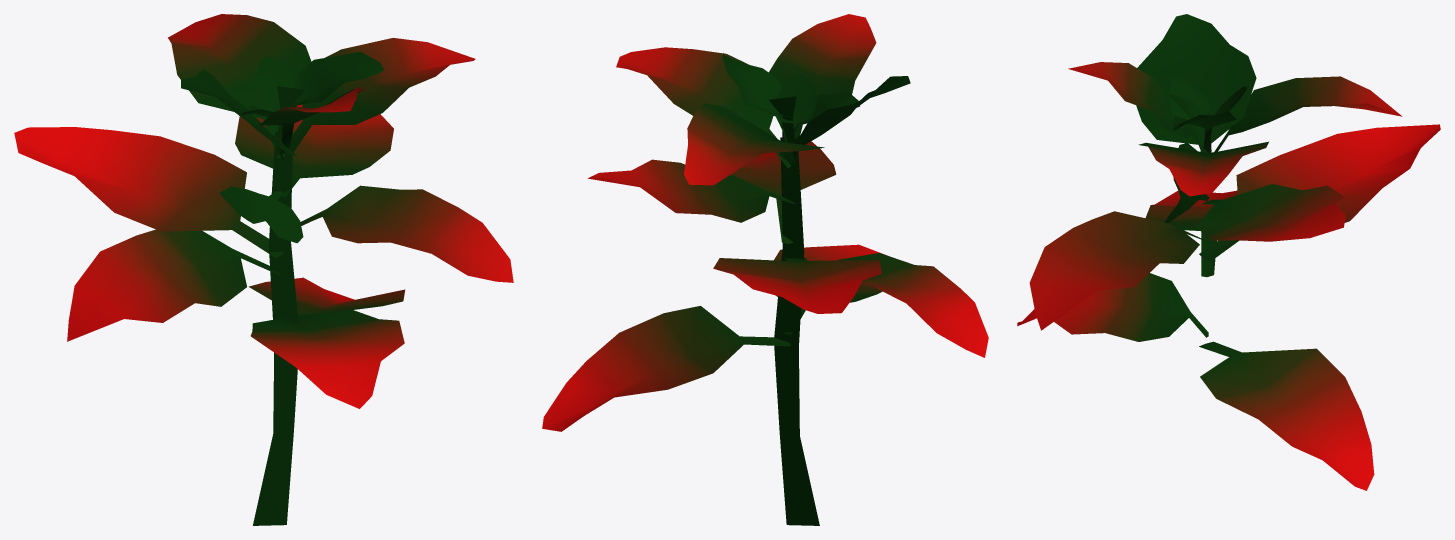
The model's file is Var2_LOD0.fbx.
3 renders of one model, left to right at view 1: azimuth 30°, elevation 25°; view 2: azimuth 150°, elevation 25°; view 3: azimuth 270°, elevation 25°, orthographic. The views are drawn at different scales.
Visible parts, largest first — view 1: _b7c0_Var2_LOD0; view 2: _b7c0_Var2_LOD0; view 3: _b7c0_Var2_LOD0.
Boxes of the visible parts, bbox=[...] form: _b7c0_Var2_LOD0: bbox=[14, 14, 513, 525]; _b7c0_Var2_LOD0: bbox=[542, 14, 988, 525]; _b7c0_Var2_LOD0: bbox=[1017, 14, 1440, 490].
Bounding box in the file's own units: 19.05 × 22.07 × 18.48.
